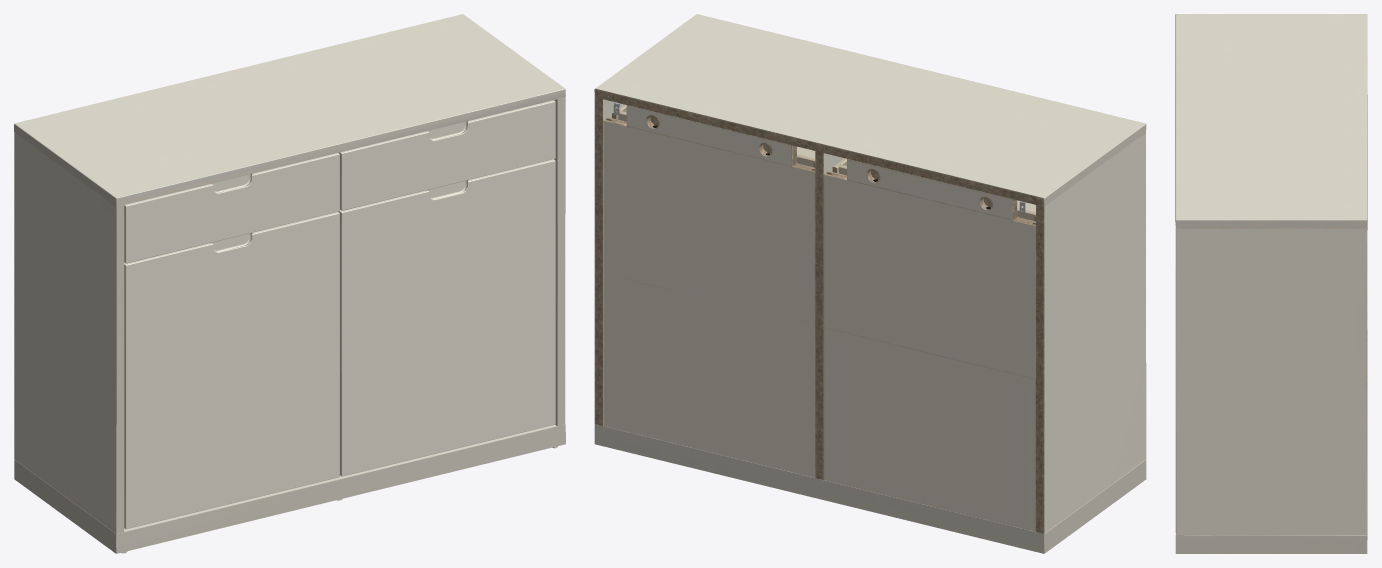
The model's file is tonstad_kredens_90488874.glb.
3 views of the same model, side by side, from view 1: azimuth 30°, elevation 25°; view 2: azimuth 150°, elevation 25°; view 3: azimuth 270°, elevation 25° (orthographic). The views are drawn at different scales.
Parts seen in each view (by area): view 1: tonstad_kredens_90488874; view 2: tonstad_kredens_90488874; view 3: tonstad_kredens_90488874.
Boxes of the visible parts, bbox=[...] form: tonstad_kredens_90488874: bbox=[14, 14, 565, 553]; tonstad_kredens_90488874: bbox=[594, 14, 1146, 553]; tonstad_kredens_90488874: bbox=[1175, 14, 1367, 553].
Size of the model in its own units: 1.2 by 0.908 by 0.4712.
5 materials, 5 textured.
